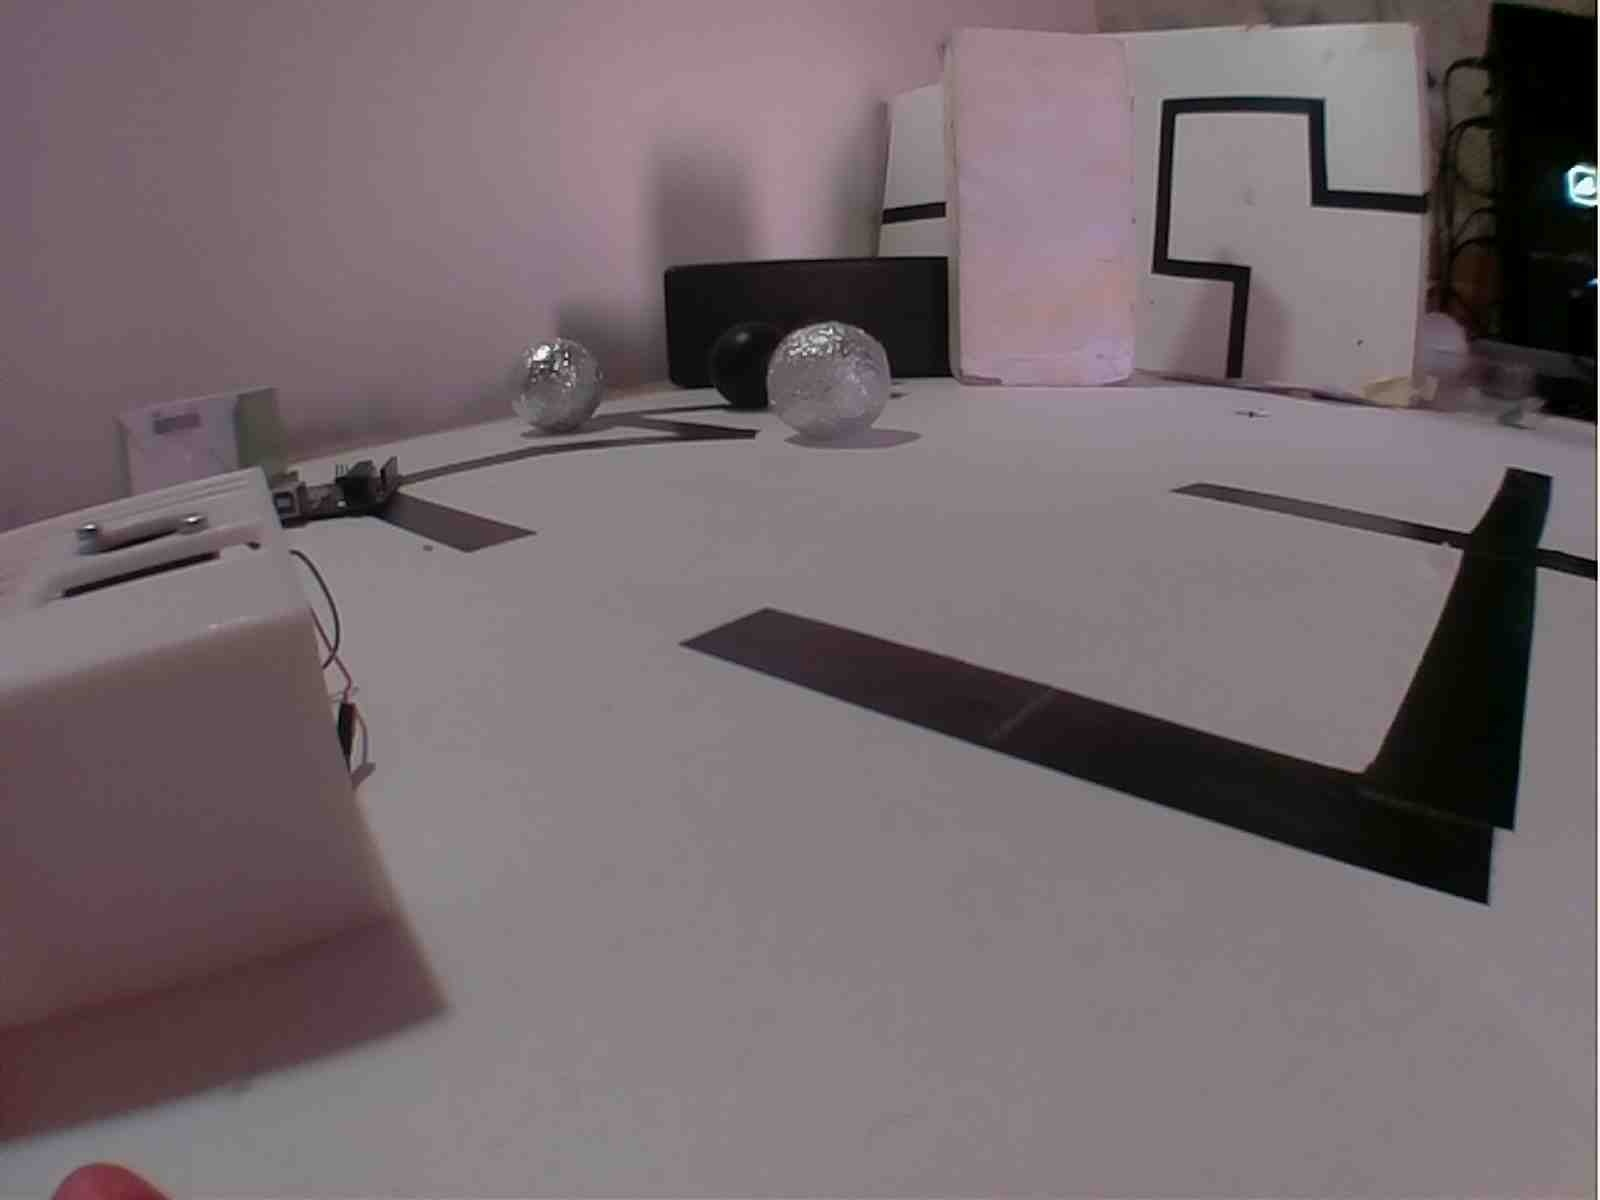bianca: (761, 315, 898, 451), (504, 335, 609, 436)
nera: (712, 306, 801, 413)
